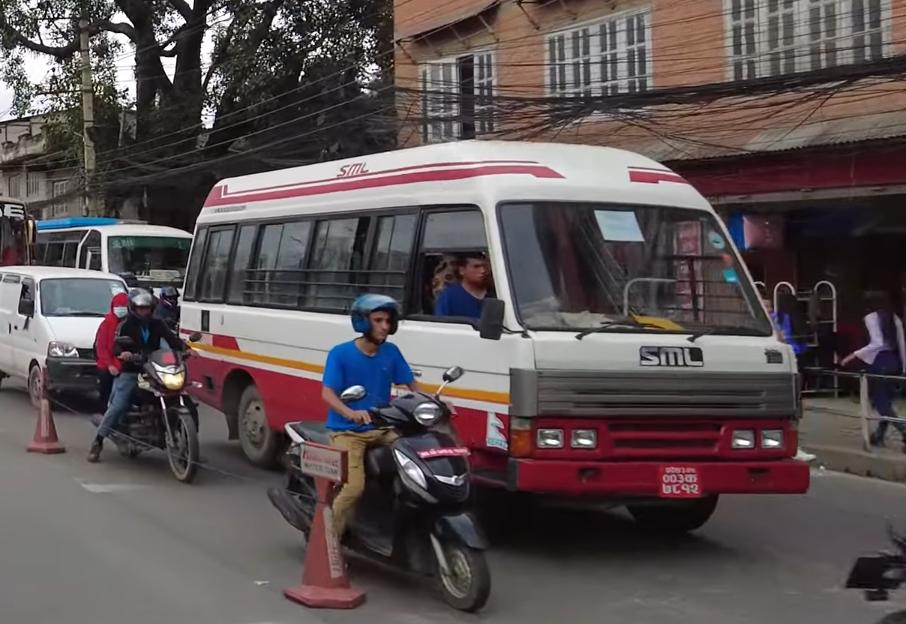bike: (92, 333, 206, 490)
micro_bus: (167, 139, 812, 532)
scooter: (273, 391, 500, 615)
van: (0, 260, 141, 409)
